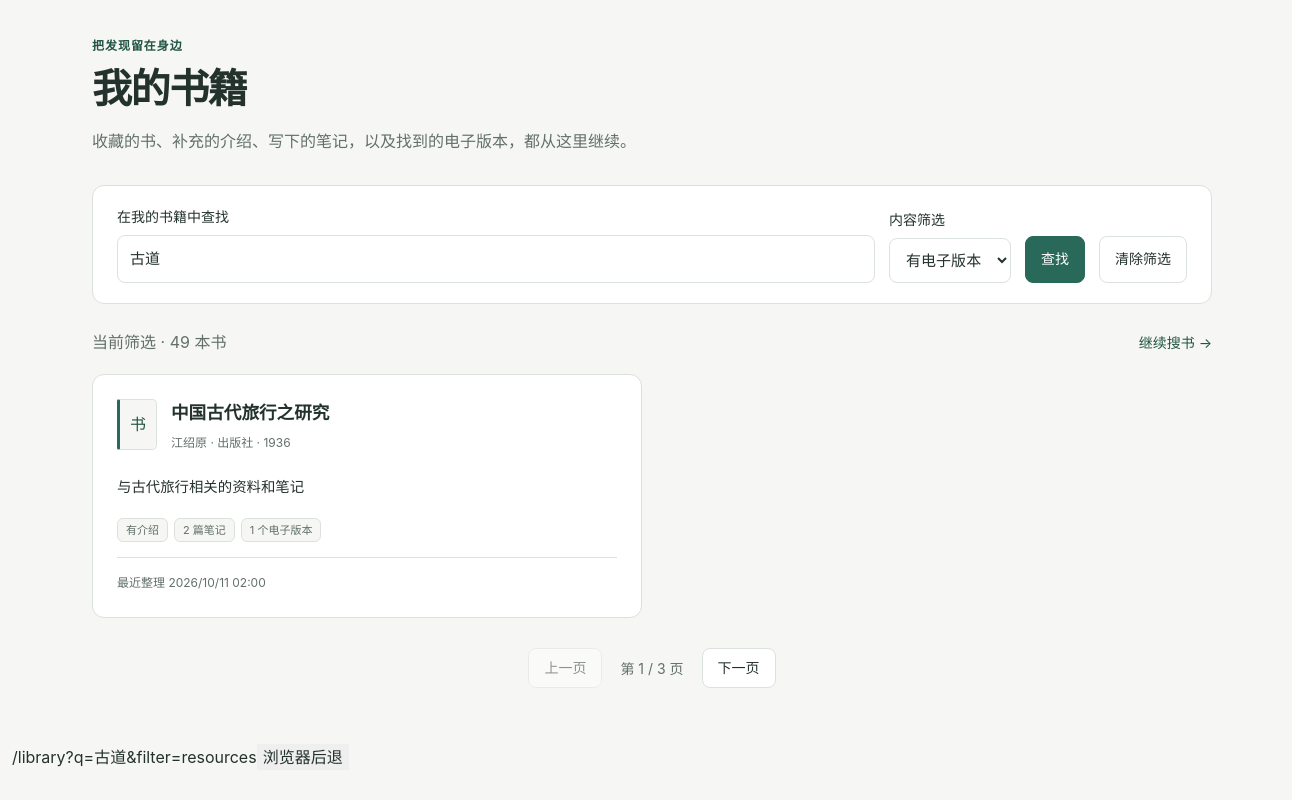
Test case: my books collection › paginates without losing current search and content filter
Click the button "下一页" at (739, 668), box [702,648,776,688]
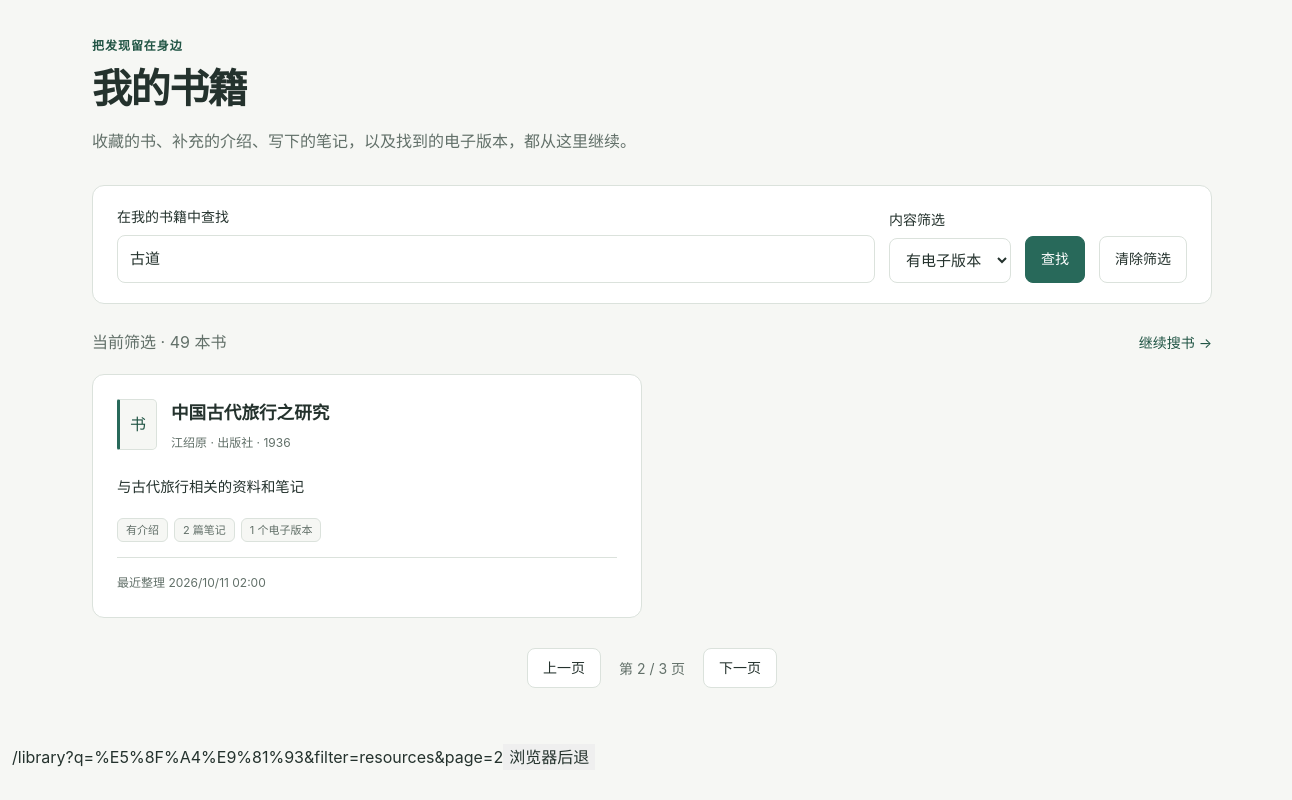
Check: the text "第 2 / 3 页" is shown, box [619,658,685,679]
